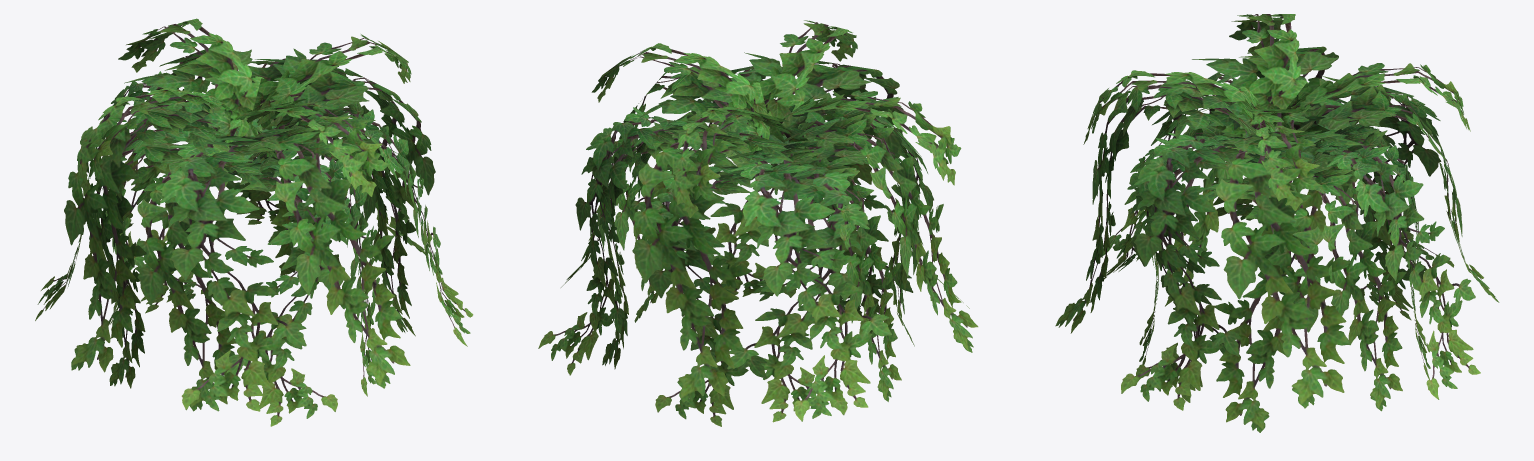
Rendered from plant30.FBX.
3 renders of one model, left to right at view 1: azimuth 30°, elevation 25°; view 2: azimuth 150°, elevation 25°; view 3: azimuth 270°, elevation 25°, orthographic.
Parts seen in each view (by area): view 1: plant30; view 2: plant30; view 3: plant30.
Part boxes in pixels (left/top/right/bottom): plant30: left=35, top=18, right=473, bottom=426; plant30: left=538, top=20, right=978, bottom=426; plant30: left=1055, top=14, right=1499, bottom=432.
Bounding box in the file's own units: 12.46 × 12.46 × 8.5.
